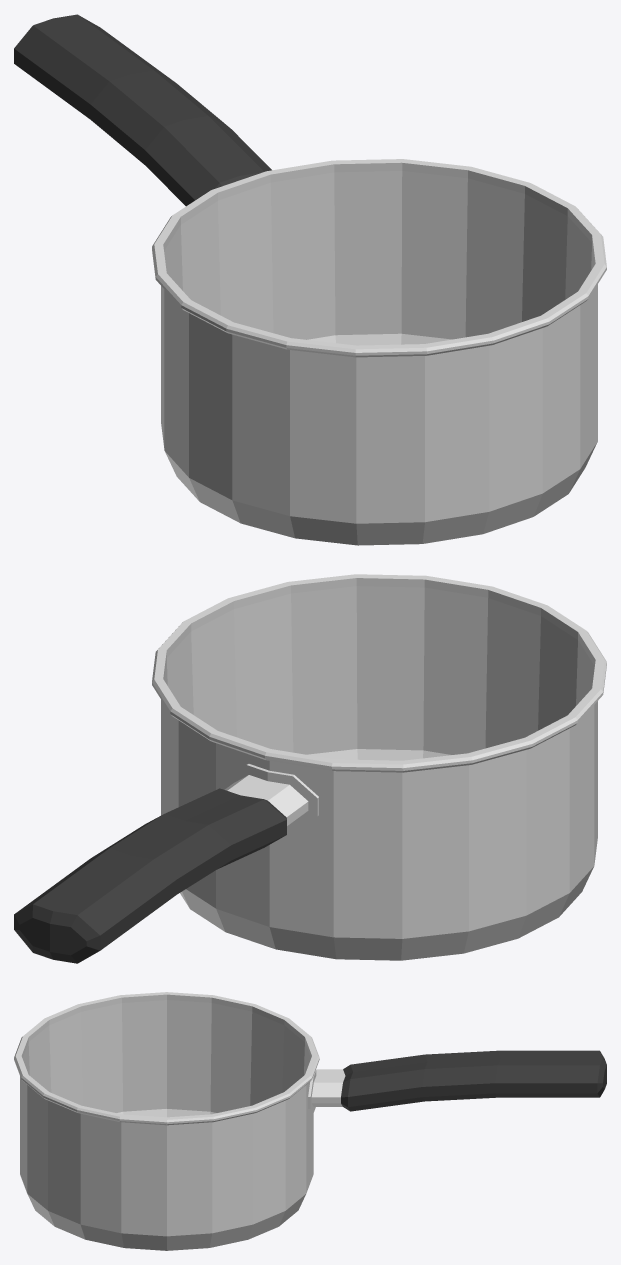
Rendered from Saus Pan.obj.
3 views of the same model, one above another, from view 1: azimuth 30°, elevation 25°; view 2: azimuth 150°, elevation 25°; view 3: azimuth 270°, elevation 25° (orthographic). The views are drawn at different scales.
Visible parts, largest first — view 1: Sauce_Pan; view 2: Sauce_Pan; view 3: Sauce_Pan.
Part boxes in pixels (box(x1,y1,x2,y2)): Sauce_Pan: box(14, 14, 606, 545); Sauce_Pan: box(14, 574, 606, 963); Sauce_Pan: box(14, 992, 606, 1250).
Size of the model in its own units: 35.81 by 18.6 by 69.47.
Materials: 1 (1 with a texture image).
